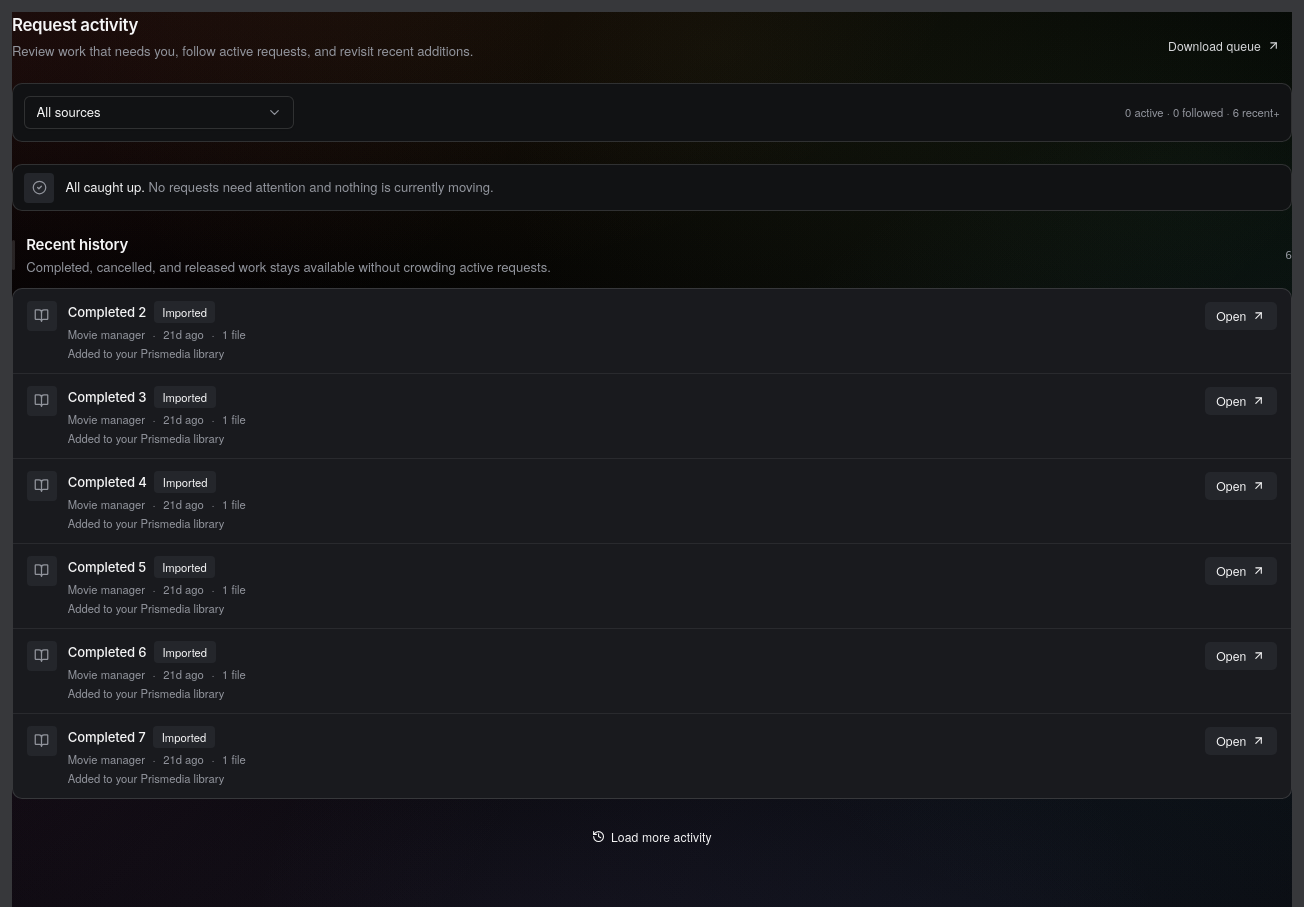
Scenario: request activity › loads another bounded page only when history is requested
Expected: the heading "Completed 2" is shown, [68,303,146,322]
Step 1. Click the button "Load more activity" → click(652, 836), box [580,821,724,851]
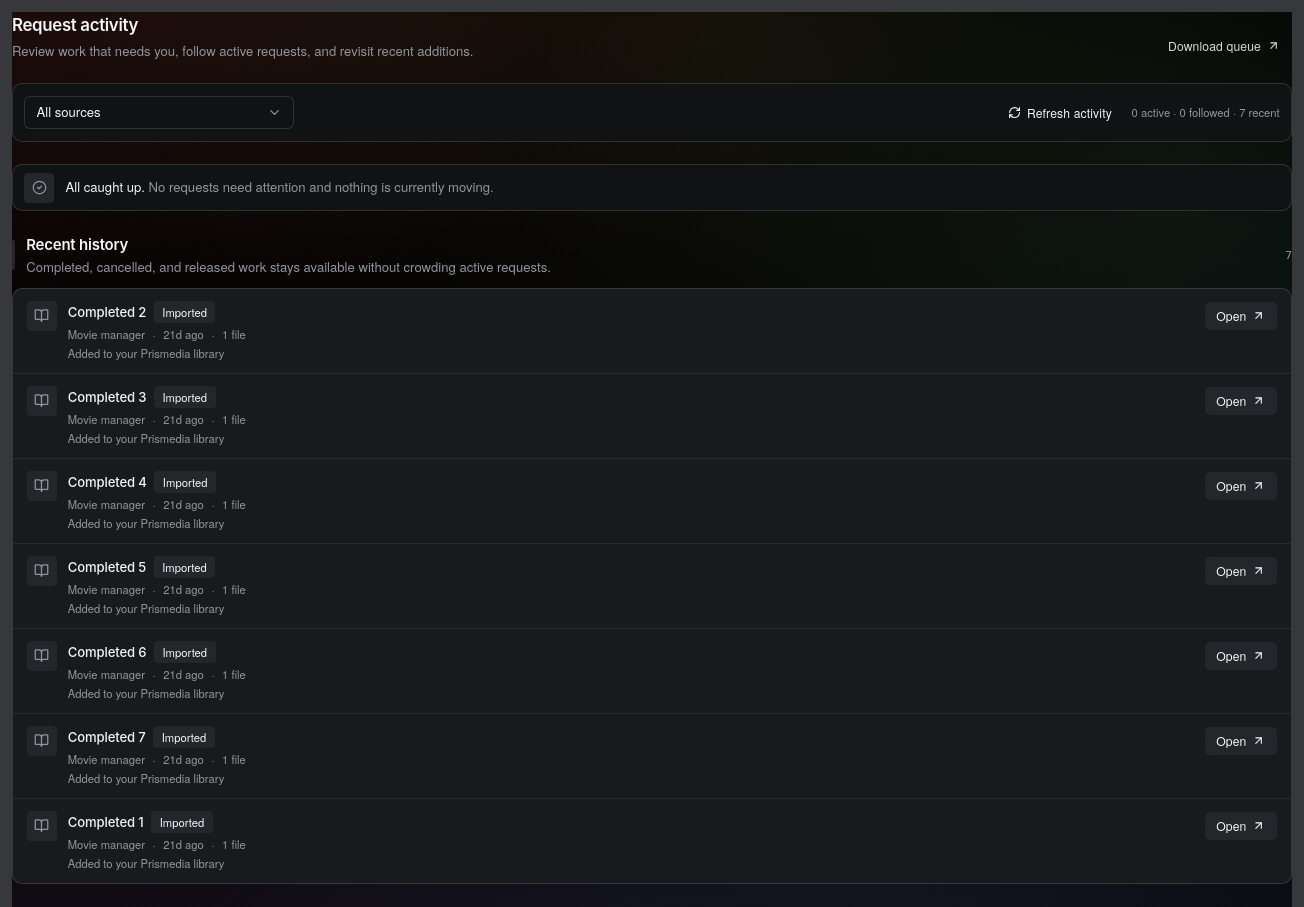
Expected: the heading "Completed 1" is shown, [68,813,144,832]
